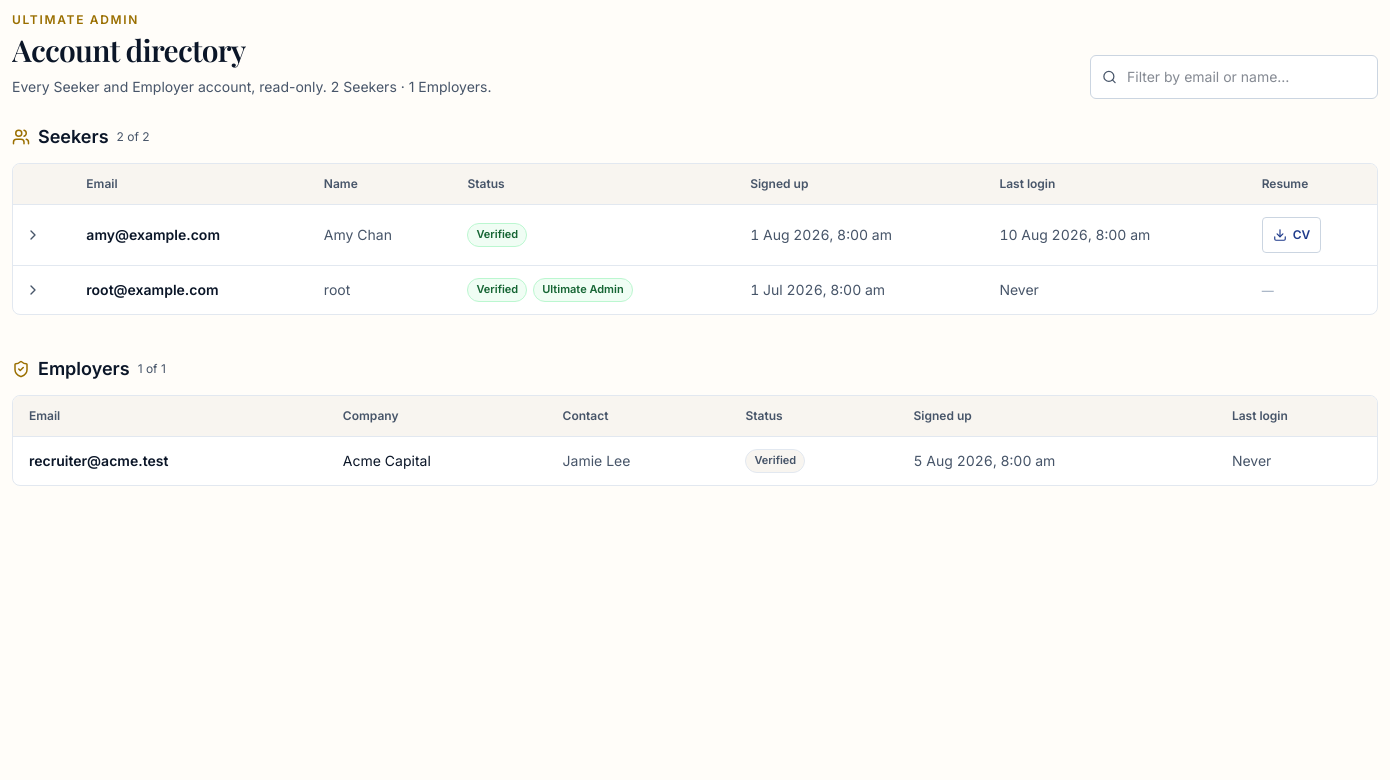
Test case: AccountsDirectory › collapses a Seeker's interests when toggled again
This screenshot has width=1390, height=780.
Step 1. Click the button named "Show interests for amy@example.com" → [33, 235], box [21, 223, 45, 247]
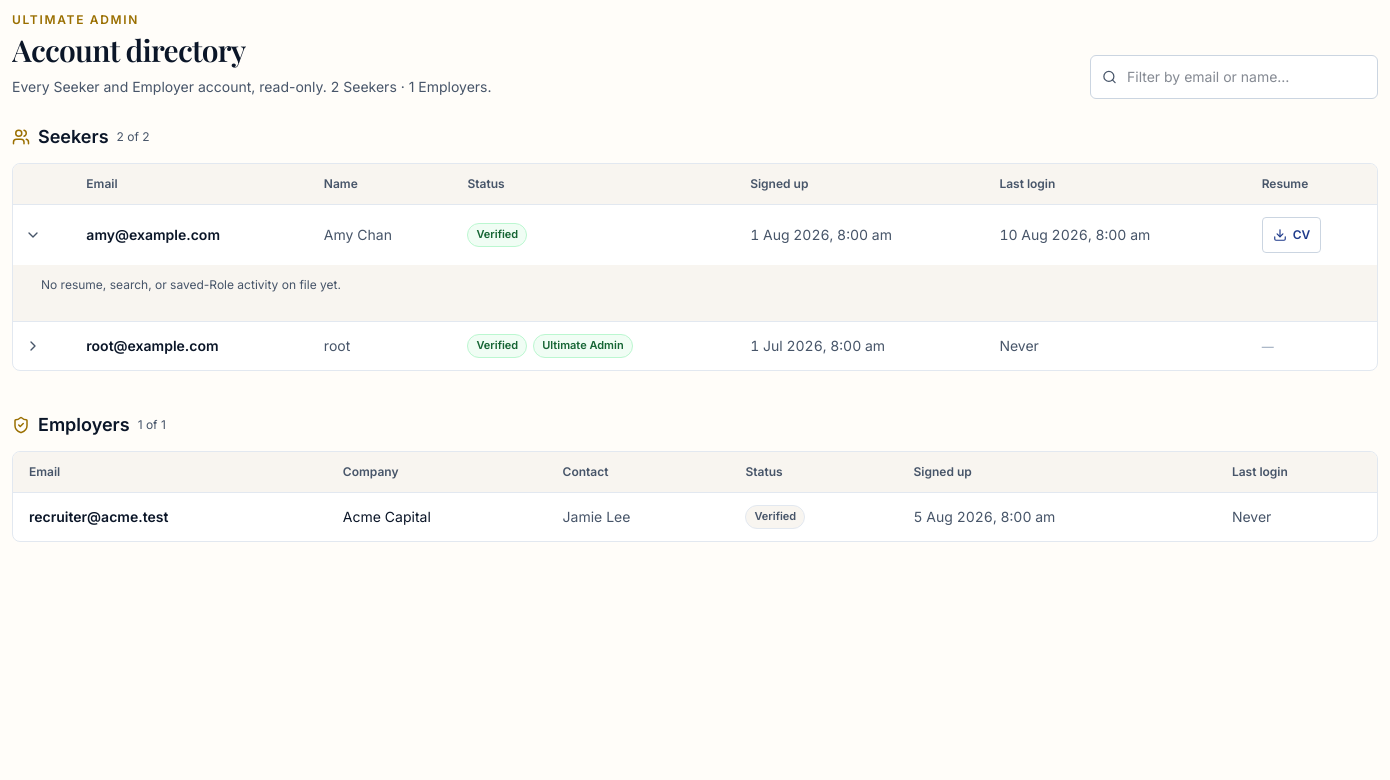
expect the text "No resume, search, or saved-Role activity on file yet." is shown: met, box [41, 277, 341, 292]
Step 2. Click the button named "Hide interests for amy@example.com" → [33, 235], box [21, 223, 45, 247]
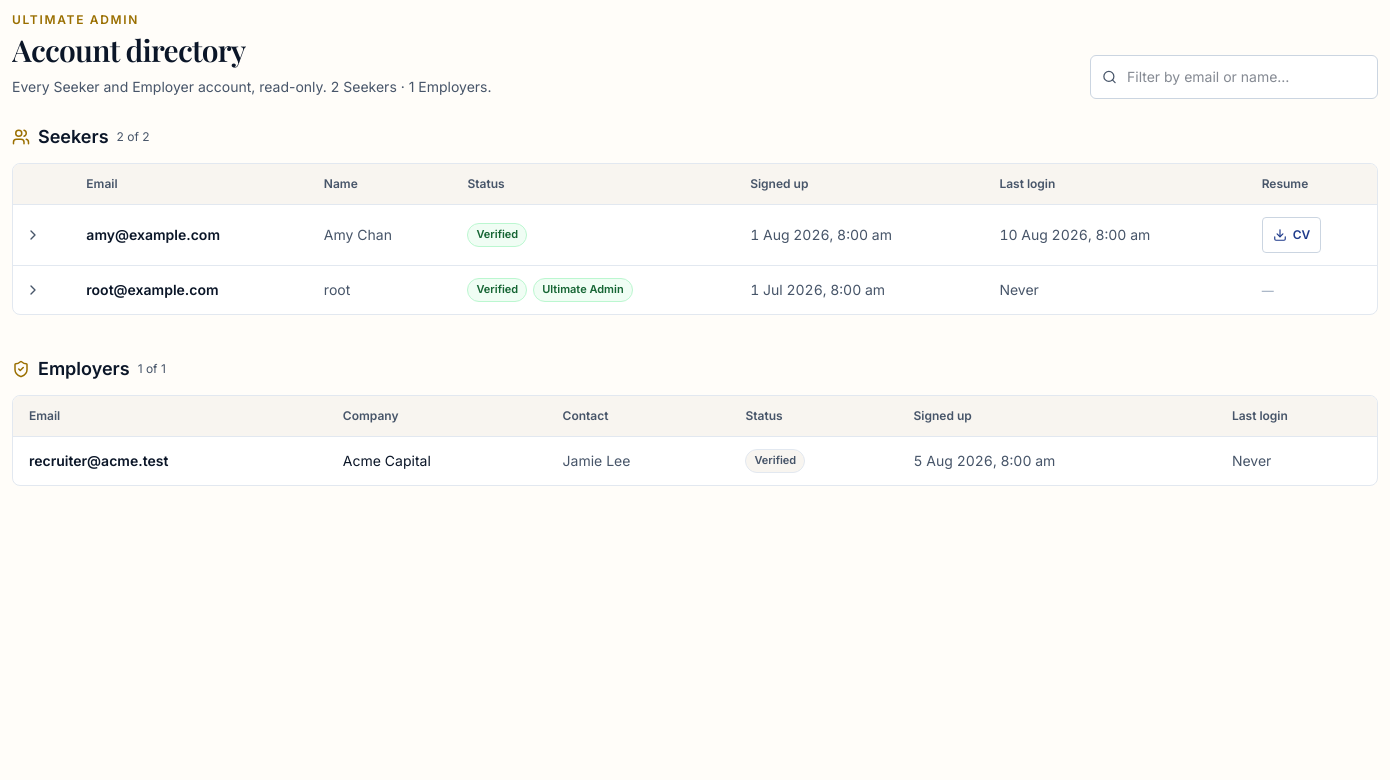
expect the text "No resume, search, or saved-Role activity" is gone: met
